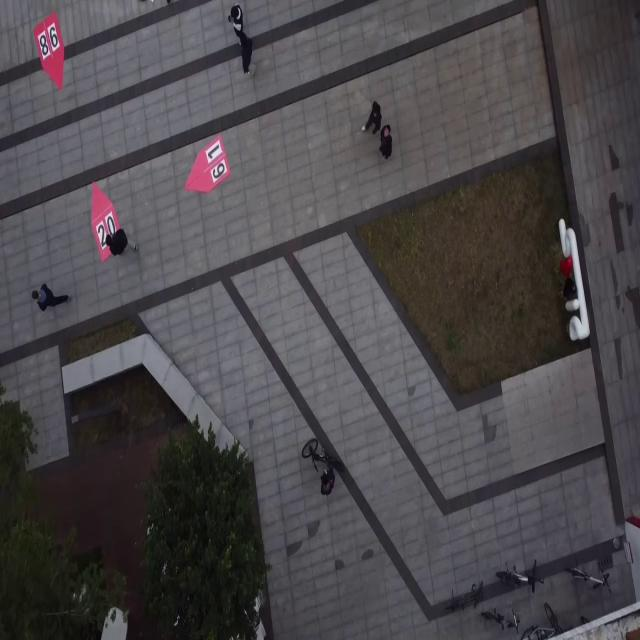-sign-: (184, 133, 230, 195), (91, 181, 121, 262), (34, 10, 64, 90)
